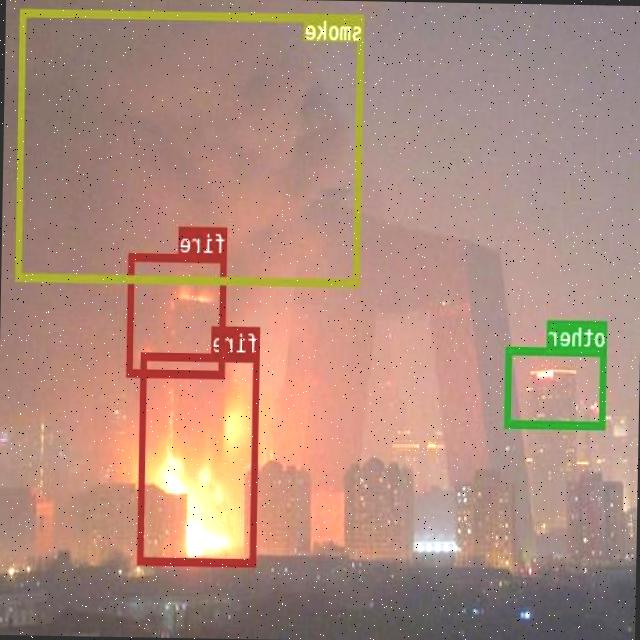fire: (139, 351, 260, 565), (128, 252, 227, 376)
smoke: (17, 8, 365, 284)
